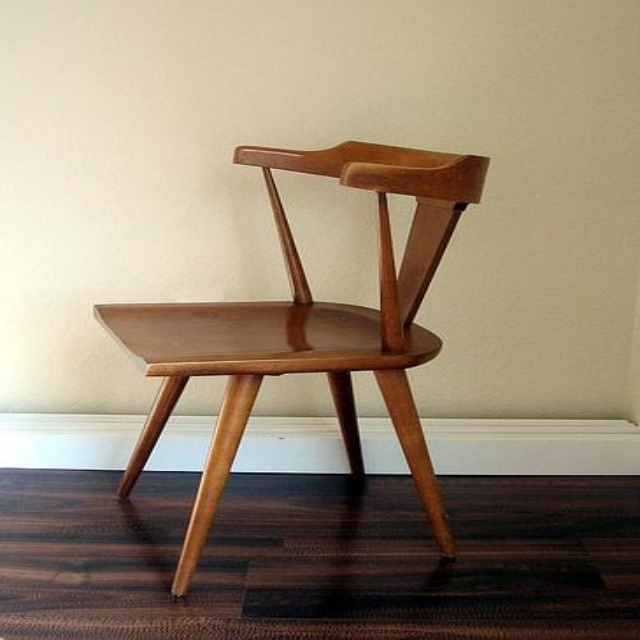obstacle: (95, 141, 487, 594)
